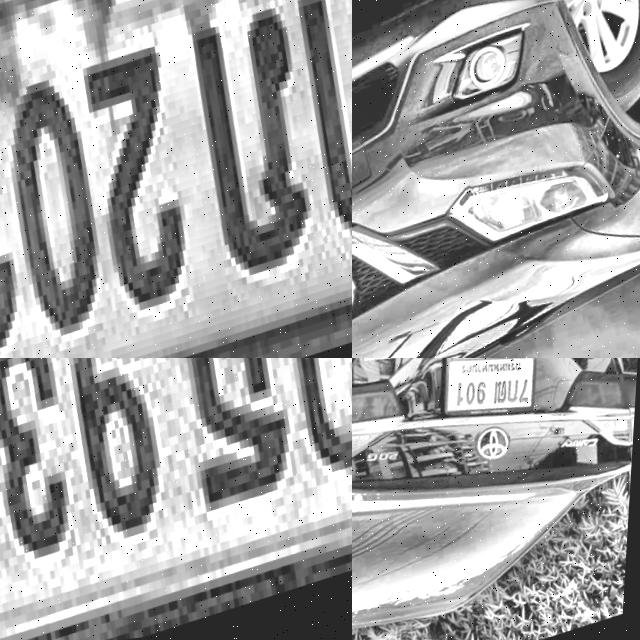license-plate: (0, 0, 352, 358), (0, 358, 352, 640), (434, 358, 554, 455)
